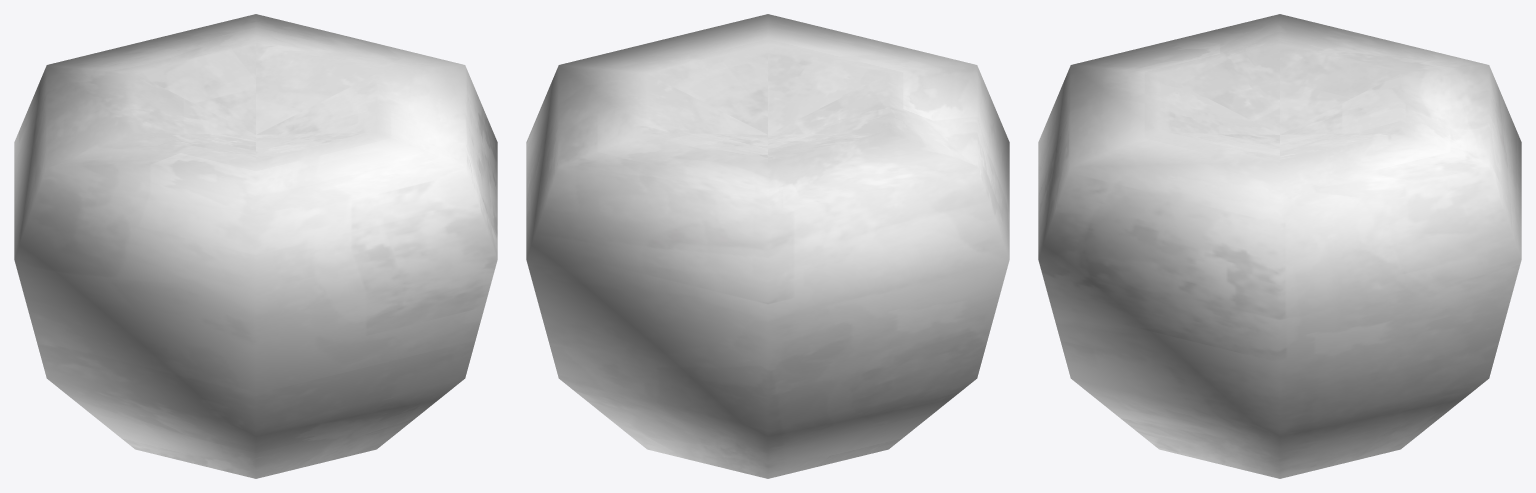
File: Apple_green.fbx
The picture shows the model from 3 angles, left to right: view 1: azimuth 30°, elevation 25°; view 2: azimuth 150°, elevation 25°; view 3: azimuth 270°, elevation 25°; orthographic projection.
Visible parts, largest first — view 1: pSphere3; view 2: pSphere3; view 3: pSphere3.
Boxes of the visible parts, x1,y1,x2,y2 form: pSphere3: (14,14,497,478); pSphere3: (526,14,1009,478); pSphere3: (1038,14,1521,478).
Size of the model in its own units: 0.3815 by 0.2504 by 0.3303.
